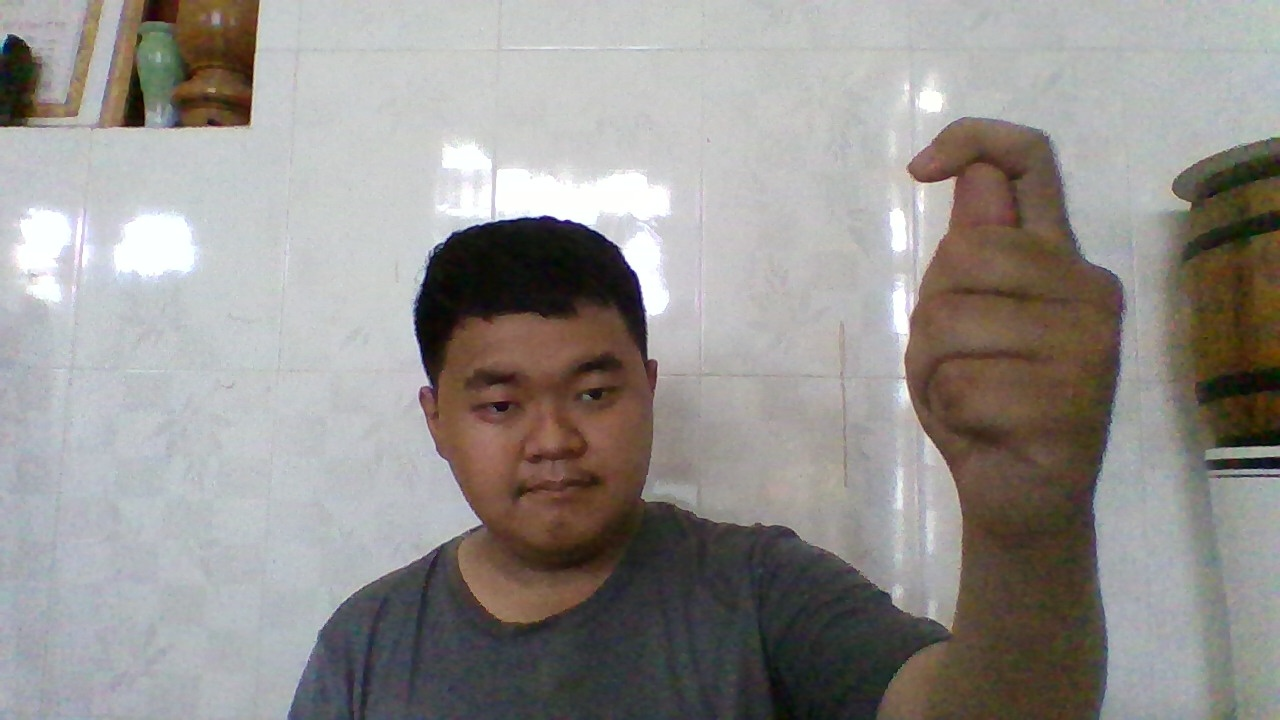X: (901, 128, 1115, 522)
